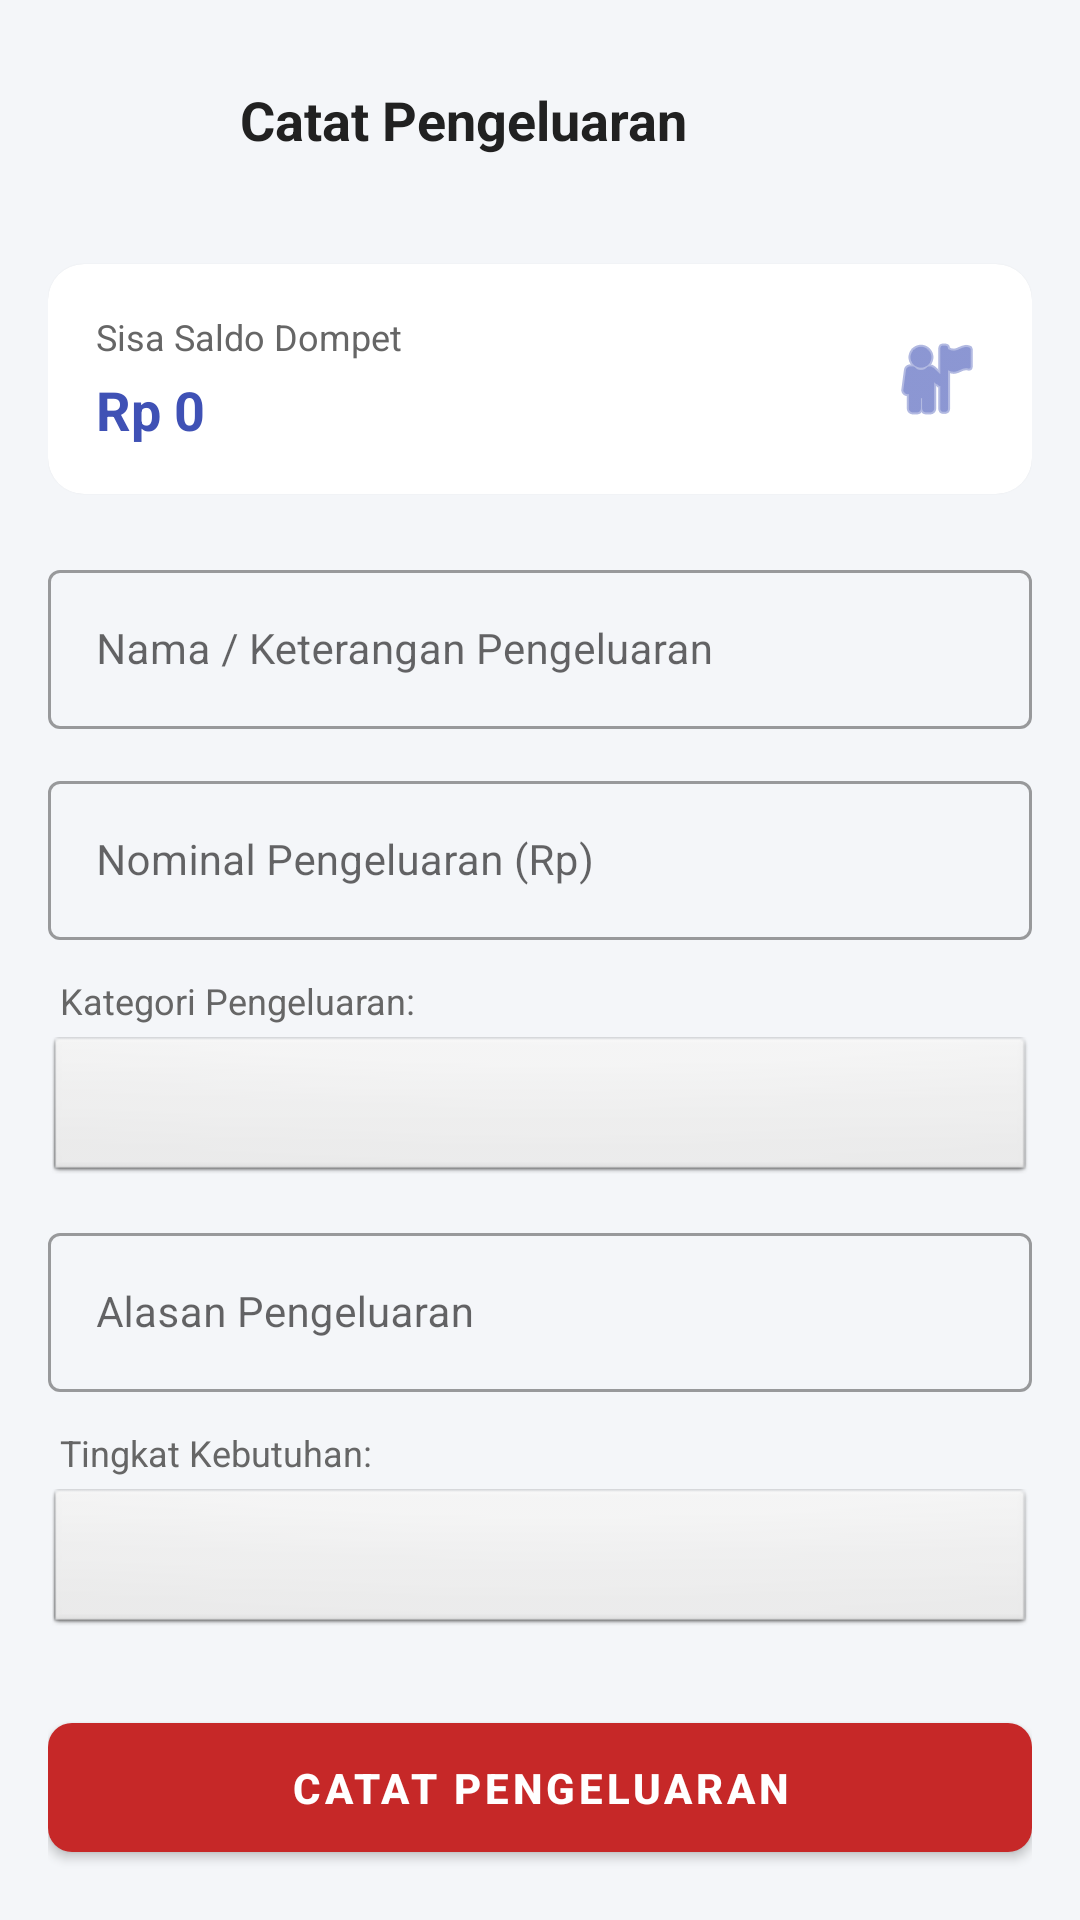

Where to tap for icons on this 1080px×1920px app screen, as (x=x, y=y):
myplaces: (x=937, y=379)
